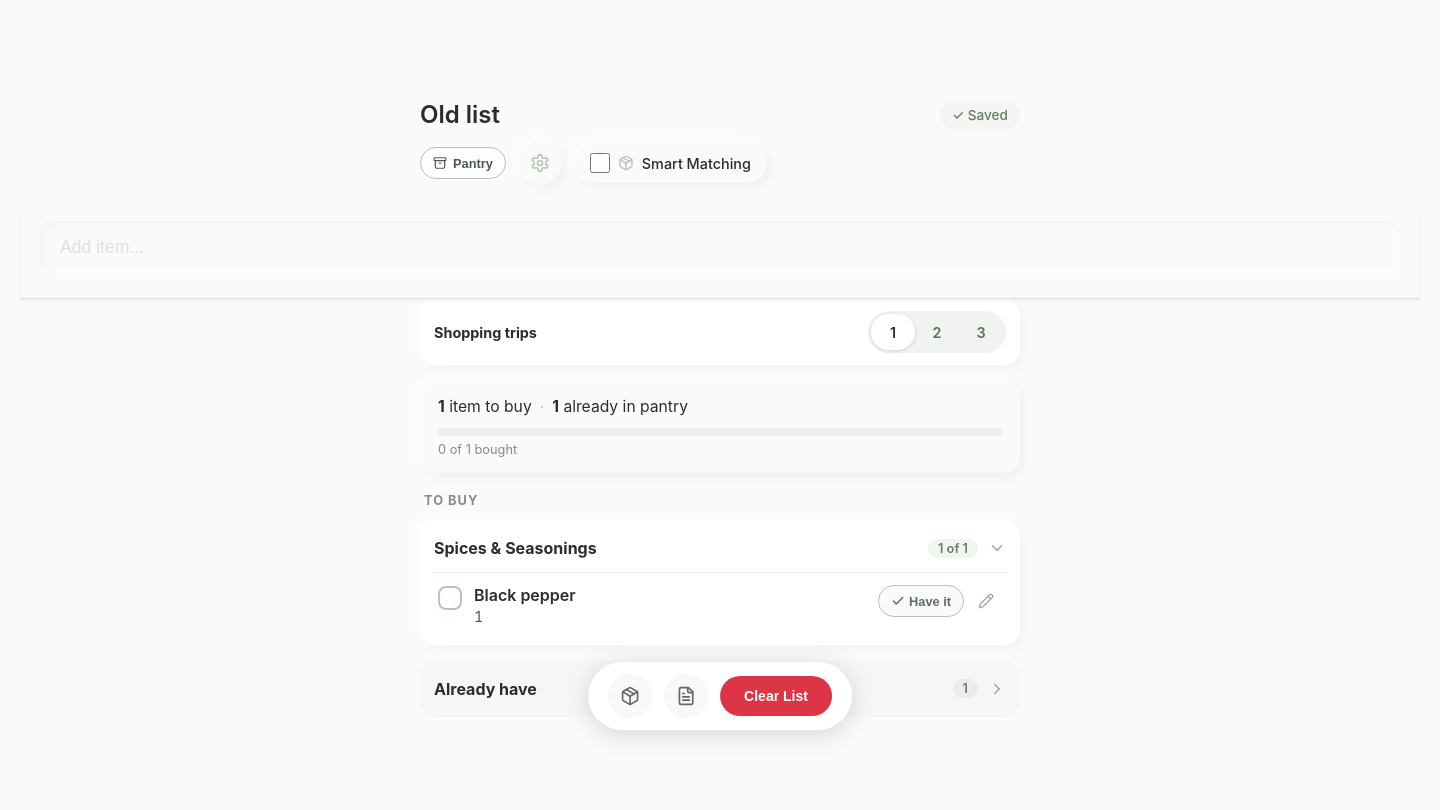
Test case: legacy saved list auto-loads, renders by aisle, and the pantry toggle moves items
The width and height of the screenshot is (1440, 810).
Expected: the heading "Old list" is shown, [420, 100, 500, 129]
Expected: the text "Spices & Seasonings" is shown, [434, 538, 597, 558]
Click the button with aria-label "Black pepper: I have it, move to Already have": (921, 601) [878, 585, 964, 617]
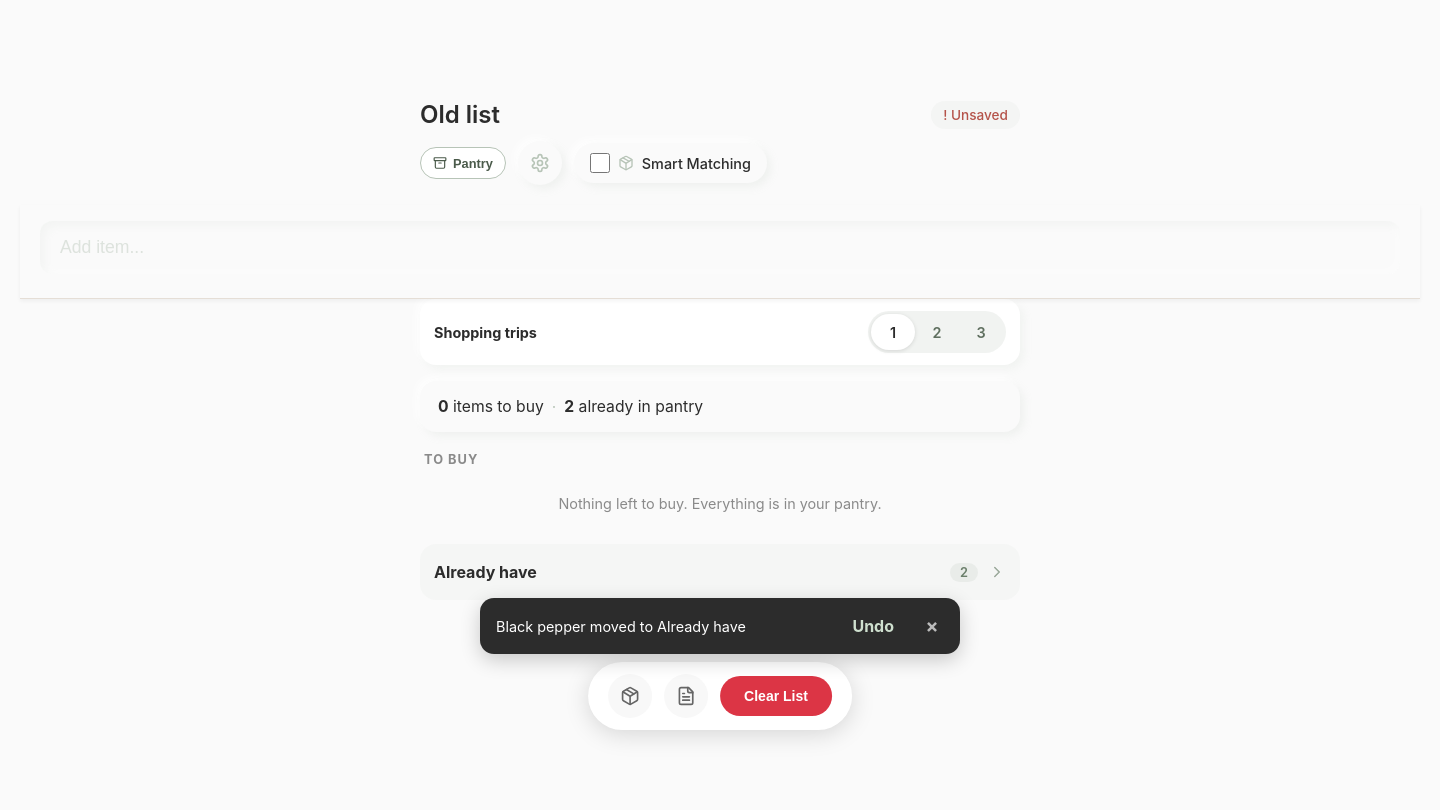
Click the button "Already have 2": (485, 572) [434, 548, 1006, 596]
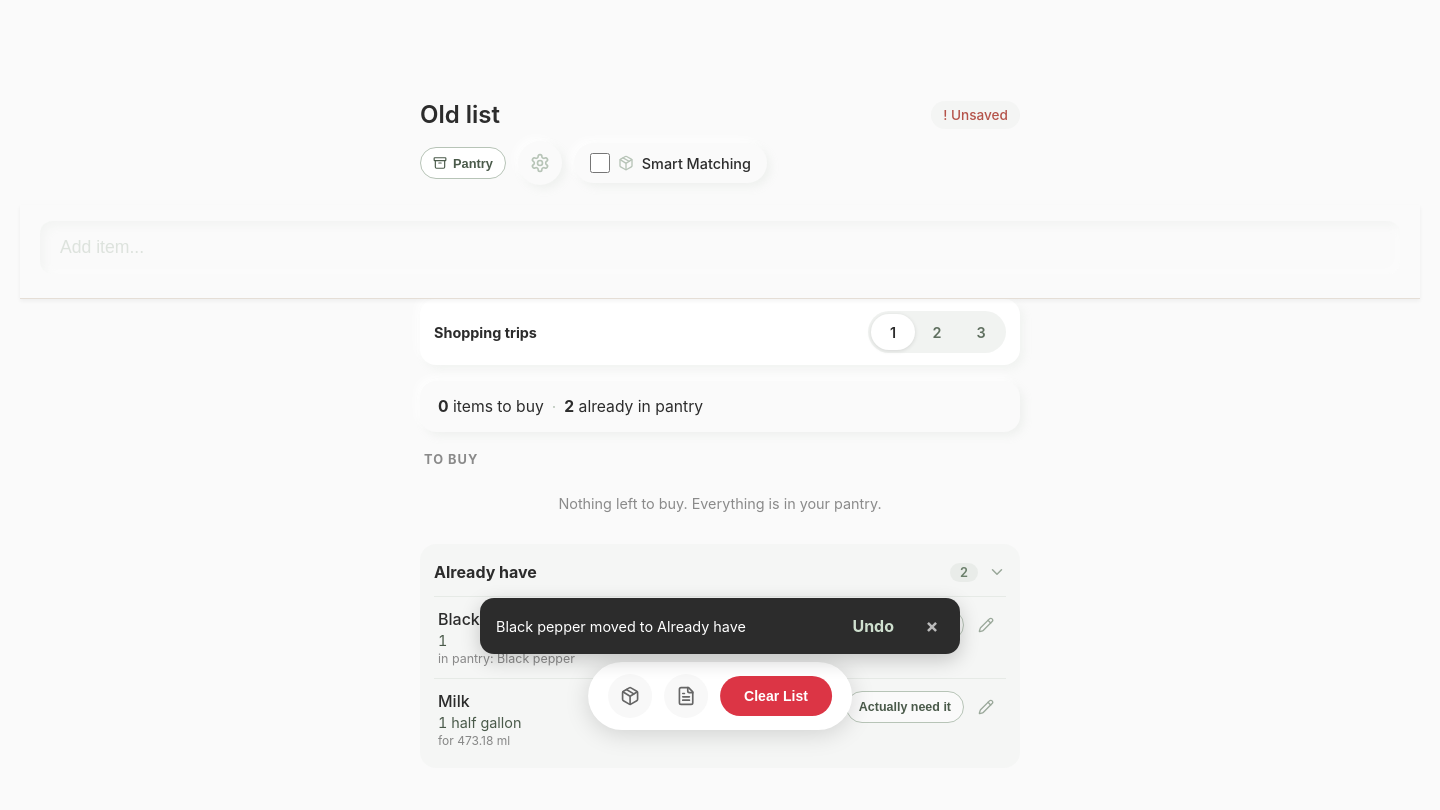
Click the button with aria-label "Actually need Milk": (905, 707) [846, 691, 964, 723]
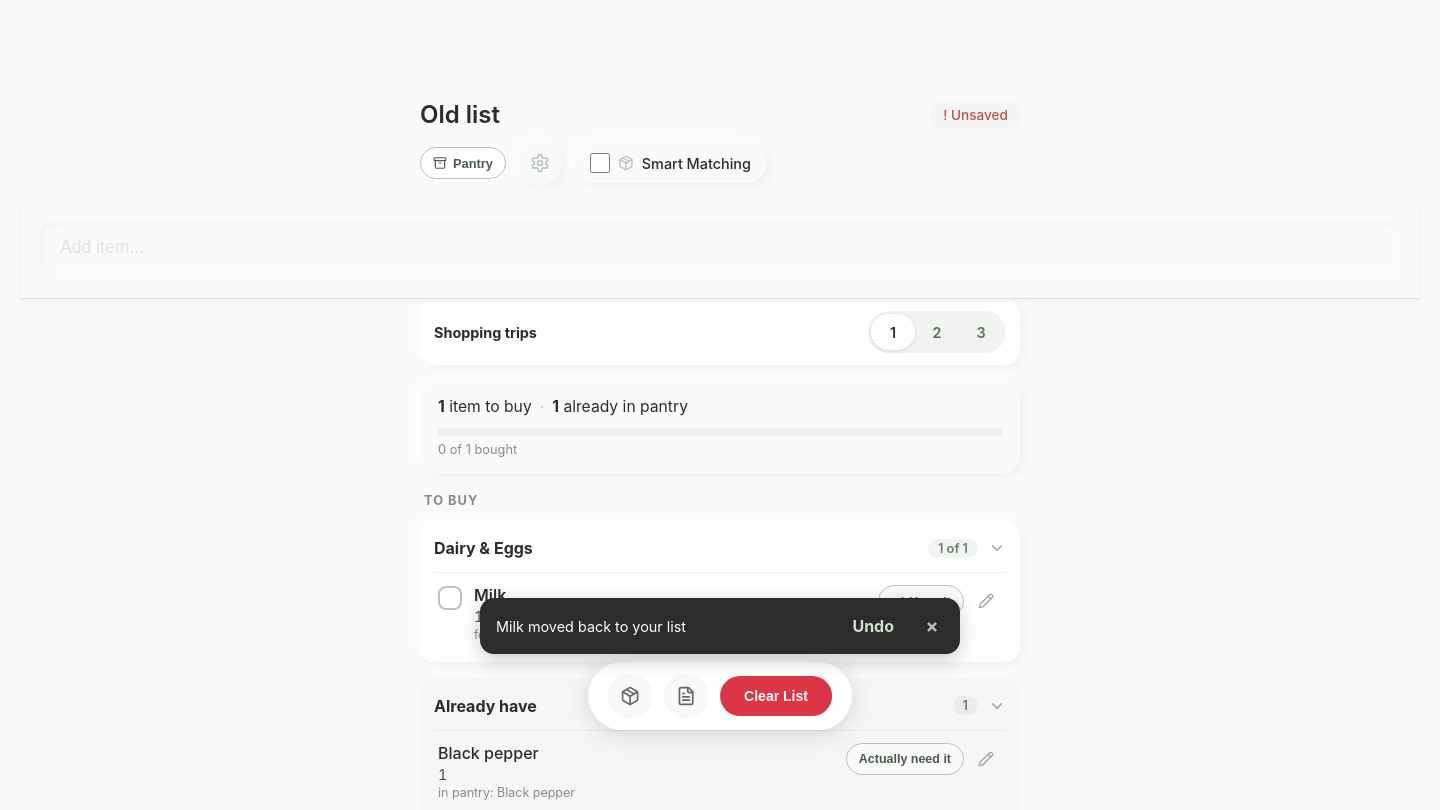
Now the checkbox named "Mark Milk as bought" is shown, box [438, 586, 462, 610]
